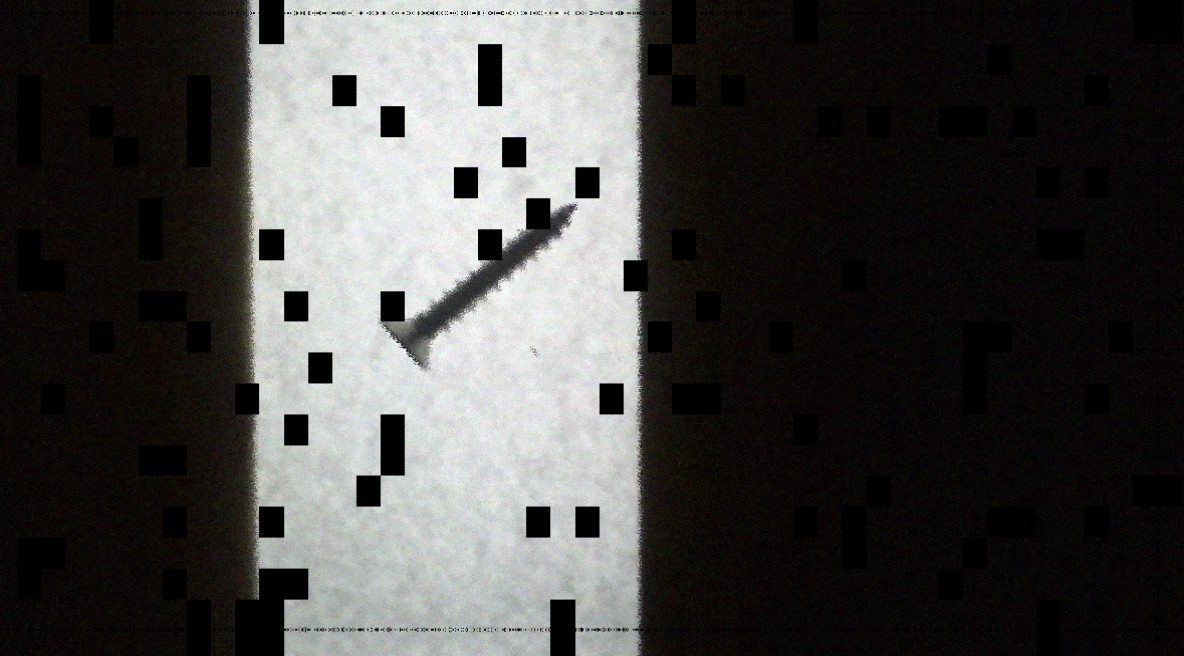S001: (351, 187, 592, 383)
